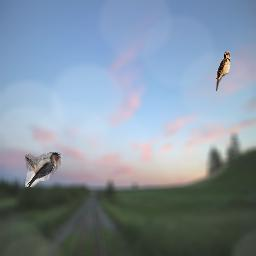Swallow: (25, 152, 61, 187), (216, 51, 231, 91)
